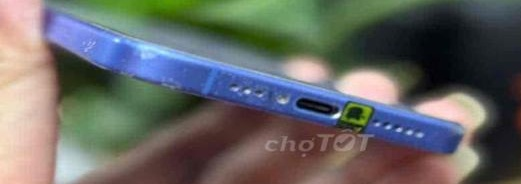scratch: (211, 62, 311, 123), (111, 39, 172, 78), (68, 38, 116, 65), (432, 123, 460, 153), (158, 79, 184, 93), (183, 63, 195, 77)
